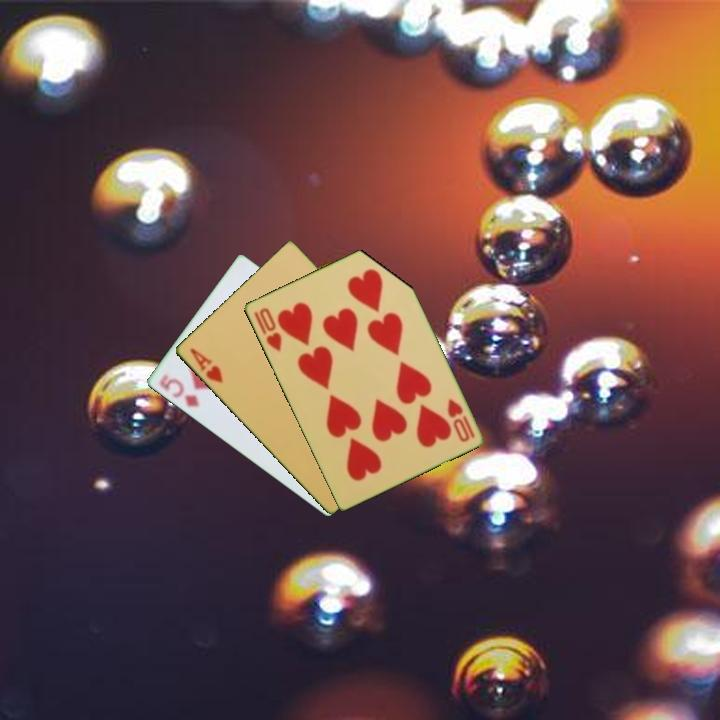10h: (250, 304, 284, 355), (443, 394, 477, 445)
5d: (155, 371, 202, 411)
Ah: (186, 345, 226, 386)
